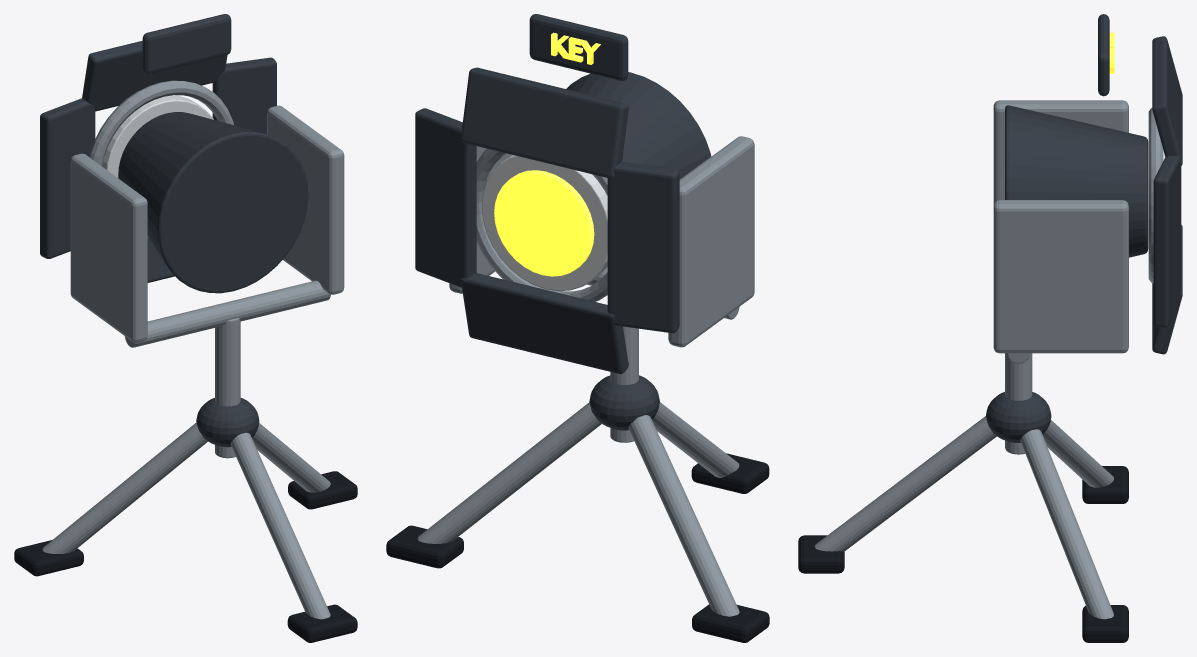
File: DirectorStudioKeyLight.glb
3 renders of one model, left to right at view 1: azimuth 30°, elevation 25°; view 2: azimuth 150°, elevation 25°; view 3: azimuth 270°, elevation 25°, orthographic. The views are drawn at different scales.
Parts seen in each view (by area): view 1: KEY_Housing, KEY_YokeRight, KEY_YokeLeft, KEY_RightDoor, KEY_TopDoor, KEY_Leg3, KEY_Leg2, KEY_YokeBase, KEY_Badge, KEY_LeftDoor, KEY_FrontRim, KEY_CenterColumn (+7 smaller); view 2: KEY_YokeRight, KEY_TopDoor, KEY_RightDoor, KEY_BottomDoor, KEY_LeftDoor, KEY_Emitter, KEY_Housing, KEY_Reflector, KEY_Leg2, KEY_Leg1, KEY_Badge, KEY_StandHub (+8 smaller); view 3: KEY_YokeLeft, KEY_Housing, KEY_Leg3, KEY_Leg1, KEY_LeftDoor, KEY_YokeRight, KEY_TopDoor, KEY_StandHub, KEY_Leg2, KEY_Foot1, KEY_FrontRim, KEY_Foot3 (+4 smaller).
Boxes of the visible parts, <box> form: KEY_Housing: <box>118,112,308,293</box>; KEY_YokeRight: <box>70,153,147,342</box>; KEY_YokeLeft: <box>267,105,344,294</box>; KEY_RightDoor: <box>40,98,95,258</box>; KEY_TopDoor: <box>82,40,227,111</box>; KEY_Leg3: <box>230,432,330,619</box>; KEY_Leg2: <box>42,422,207,553</box>; KEY_YokeBase: <box>124,280,330,347</box>; KEY_Badge: <box>142,14,231,73</box>; KEY_LeftDoor: <box>212,57,276,133</box>; KEY_FrontRim: <box>89,80,233,239</box>; KEY_CenterColumn: <box>215,318,240,458</box>; KEY_YokeRight: <box>668,136,754,347</box>; KEY_TopDoor: <box>461,67,628,178</box>; KEY_RightDoor: <box>607,162,679,333</box>; KEY_BottomDoor: <box>461,273,628,374</box>; KEY_LeftDoor: <box>415,108,476,287</box>; KEY_Emitter: <box>494,170,594,276</box>; KEY_Housing: <box>566,72,711,179</box>; KEY_Reflector: <box>481,155,607,291</box>; KEY_Leg2: <box>628,415,739,616</box>; KEY_Leg1: <box>417,402,601,543</box>; KEY_Badge: <box>529,14,628,80</box>; KEY_StandHub: <box>589,375,659,430</box>; KEY_YokeLeft: <box>993,200,1128,353</box>; KEY_Housing: <box>1005,105,1148,257</box>; KEY_Leg3: <box>814,416,996,551</box>; KEY_Leg1: <box>1020,429,1113,619</box>; KEY_LeftDoor: <box>1153,156,1181,327</box>; KEY_YokeRight: <box>993,100,1128,204</box>; KEY_TopDoor: <box>1152,36,1182,165</box>; KEY_StandHub: <box>986,392,1051,442</box>; KEY_Leg2: <box>1042,420,1113,487</box>; KEY_Foot1: <box>1082,605,1128,642</box>; KEY_FrontRim: <box>1148,108,1163,283</box>; KEY_Foot3: <box>798,535,844,573</box>.
Bounding box in the file's own units: 0.1339 × 0.1999 × 0.1319.
